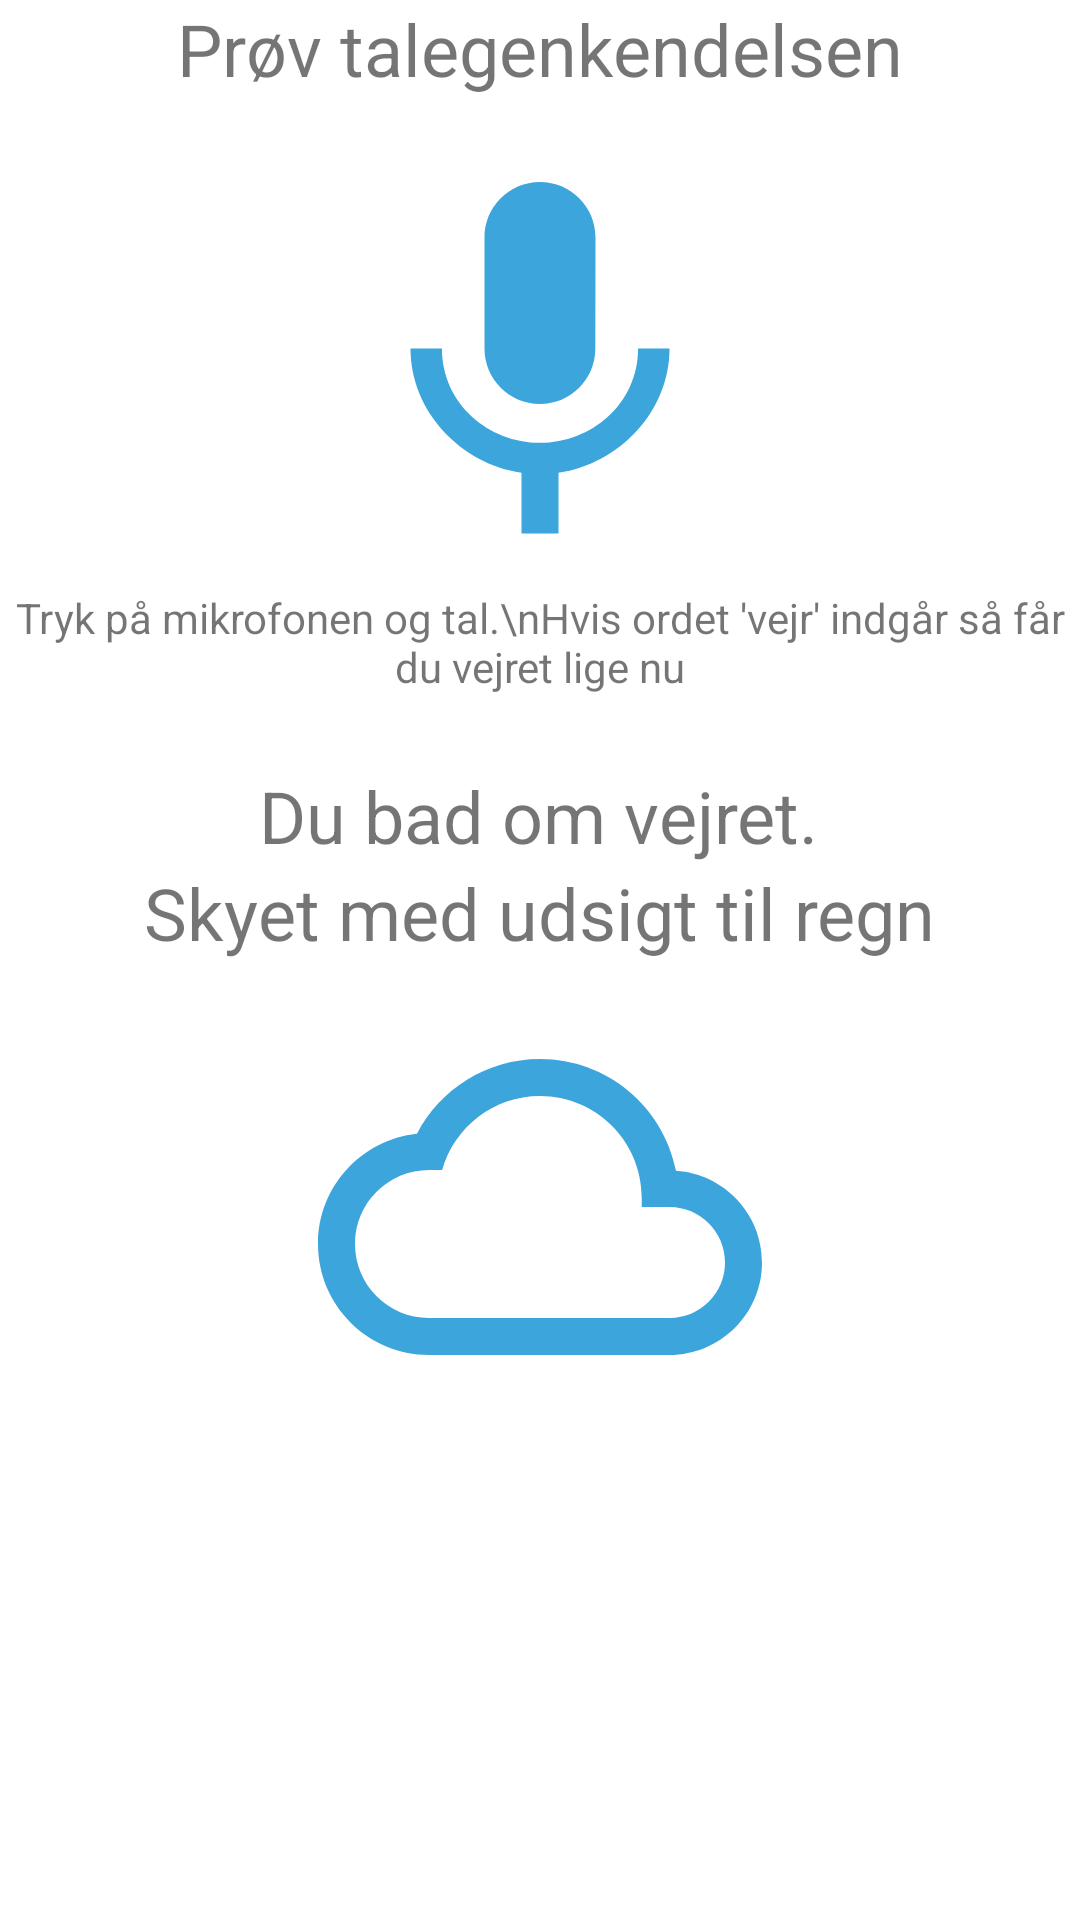

Icons on this 1080w x 1920h Android screen, each with its box as (x1, y1, x2, y2):
mic: (410, 182, 670, 534)
